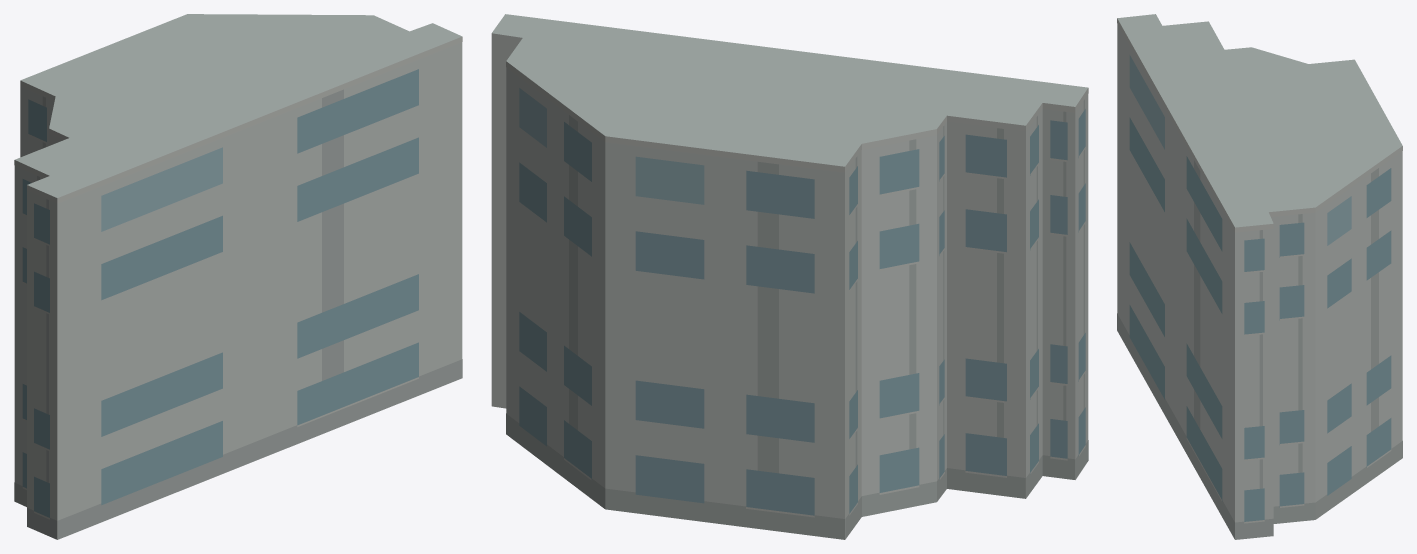
The model's file is survey-upis-32968500.glb.
The picture shows the model from 3 angles, left to right: view 1: azimuth 30°, elevation 25°; view 2: azimuth 150°, elevation 25°; view 3: azimuth 270°, elevation 25°; orthographic projection. The views are drawn at different scales.
Parts seen in each view (by area): view 1: survey-upis-32968500.tmp; view 2: survey-upis-32968500.tmp; view 3: survey-upis-32968500.tmp.
Part boxes in pixels (box(x1,y1,x2,y2)): survey-upis-32968500.tmp: box(14, 14, 462, 539); survey-upis-32968500.tmp: box(491, 14, 1088, 539); survey-upis-32968500.tmp: box(1117, 14, 1402, 539).
Bounding box in the file's own units: 21.78 × 14.85 × 12.32.
